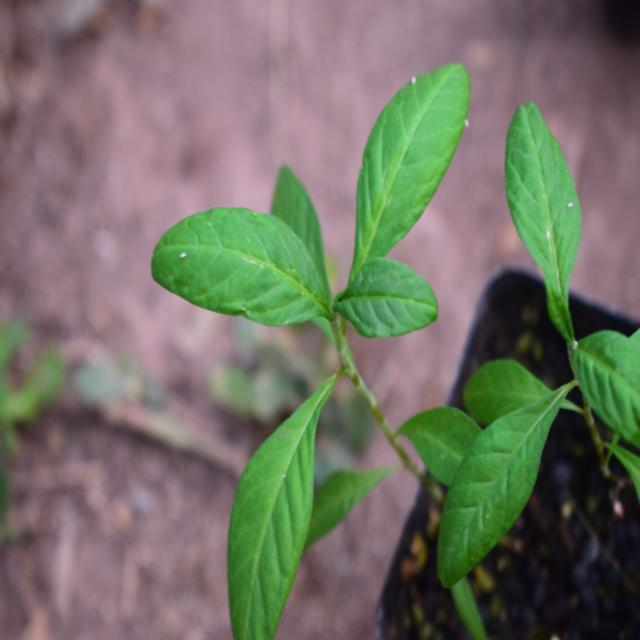white_smart_weed: (104, 52, 517, 568)
